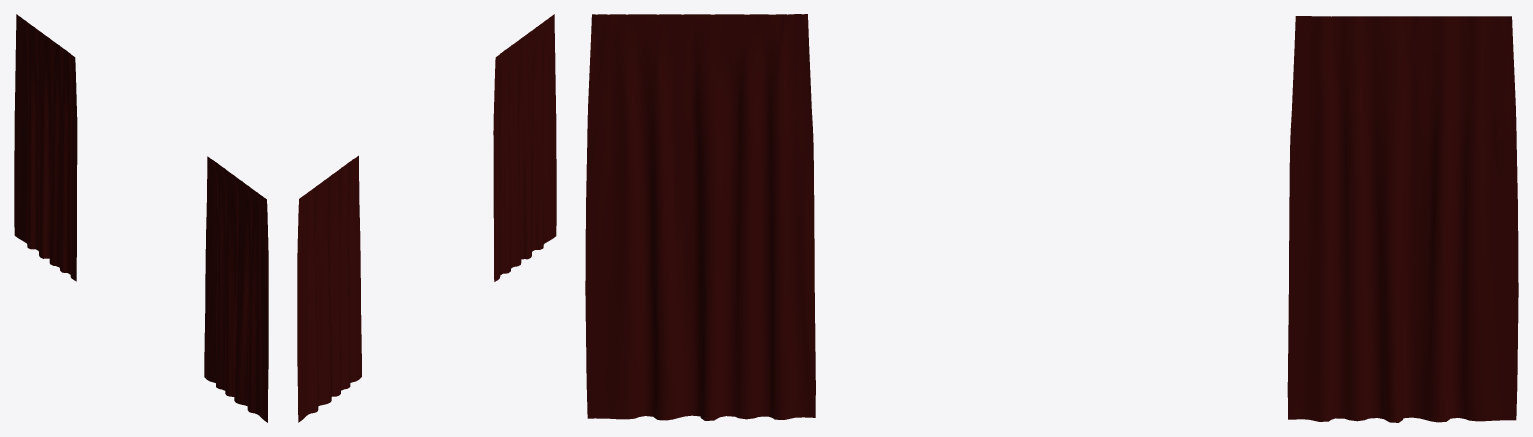
Rendered from CURTAINS.glb.
The picture shows the model from 3 angles, left to right: view 1: azimuth 30°, elevation 25°; view 2: azimuth 150°, elevation 25°; view 3: azimuth 270°, elevation 25°; orthographic projection. The views are drawn at different scales.
Parts seen in each view (by area): view 1: 5-CURTAINS; view 2: 5-CURTAINS; view 3: 5-CURTAINS.
Part boxes in pixels (x1=…): 5-CURTAINS: x1=14, y1=14, x2=268, y2=422; 5-CURTAINS: x1=297, y1=14, x2=556, y2=422; 5-CURTAINS: x1=585, y1=14, x2=1518, y2=422.
Size of the model in its own units: 0.2015 by 5 by 10.45.
